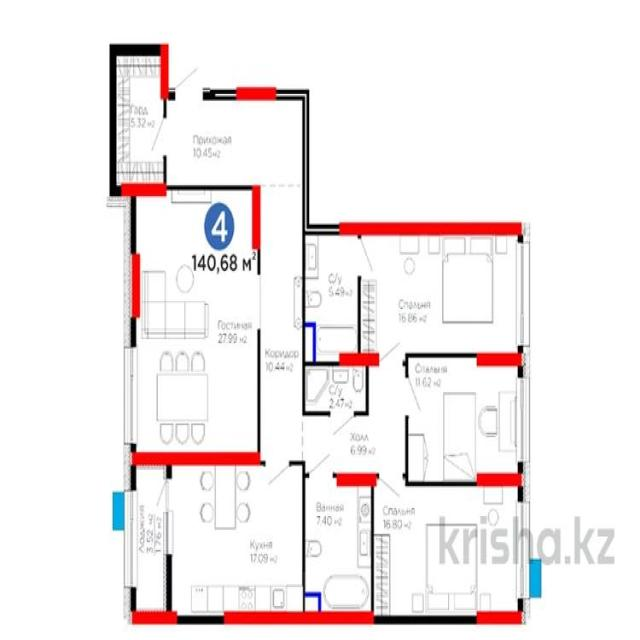balcony: (126, 460, 168, 617)
bathroom: (305, 474, 373, 619), (304, 232, 360, 362), (304, 362, 368, 416)
hallway: (166, 97, 407, 466)
kitchen: (169, 461, 303, 621)
living_room: (129, 188, 262, 461), (371, 480, 523, 621), (362, 232, 522, 360), (408, 358, 522, 482)
other: (112, 50, 167, 188)
